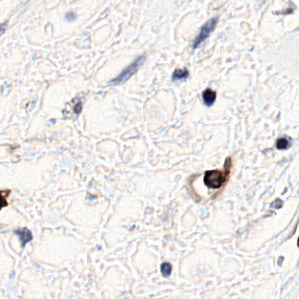Lymphocyte: (204, 169, 228, 188)
